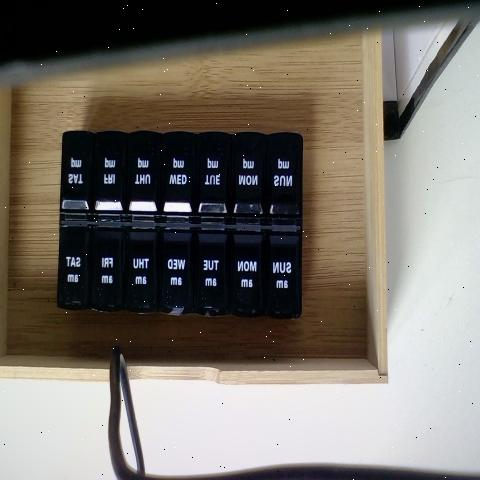FRI-am: (92, 226, 123, 304)
FRI-pm: (95, 131, 124, 216)
MON-am: (227, 225, 259, 306)
MON-pm: (227, 134, 259, 213)
SAT-am: (60, 225, 92, 307)
SAT-pm: (62, 128, 93, 213)
SUN-am: (262, 229, 301, 310)
SUN-pm: (263, 138, 297, 218)
THU-am: (126, 222, 156, 306)
THU-pm: (126, 130, 158, 218)
TUE-am: (192, 229, 223, 306)
TUE-pm: (192, 134, 226, 220)
WED-am: (159, 225, 190, 308)
WED-pm: (160, 131, 191, 220)
